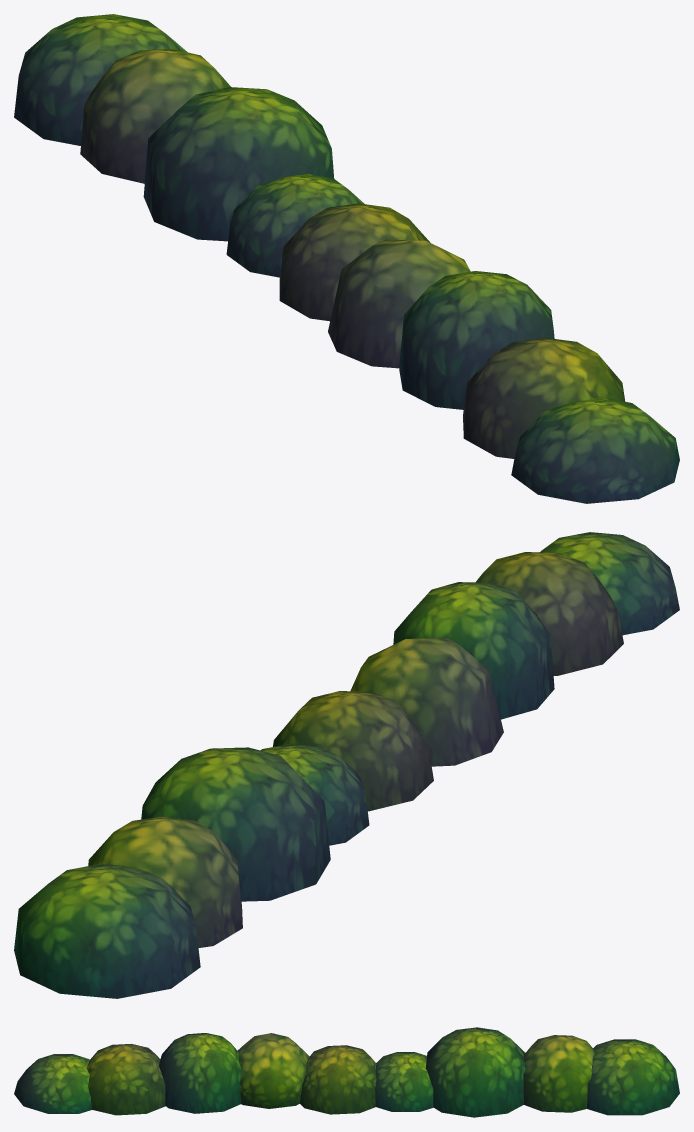
File: scenes_village_plant04d.FBX
3 renders of one model, top to bottom at view 1: azimuth 30°, elevation 25°; view 2: azimuth 150°, elevation 25°; view 3: azimuth 270°, elevation 25°, orthographic. The views are drawn at different scales.
Parts seen in each view (by area): view 1: scenes_village_plant04dw; view 2: scenes_village_plant04dw; view 3: scenes_village_plant04dw.
Boxes of the visible parts, x1,y1,x2,y2 form: scenes_village_plant04dw: [14, 14, 679, 503]; scenes_village_plant04dw: [14, 532, 679, 998]; scenes_village_plant04dw: [14, 1027, 679, 1117].
Bounding box in the file's own units: 173 × 106 × 1027.
